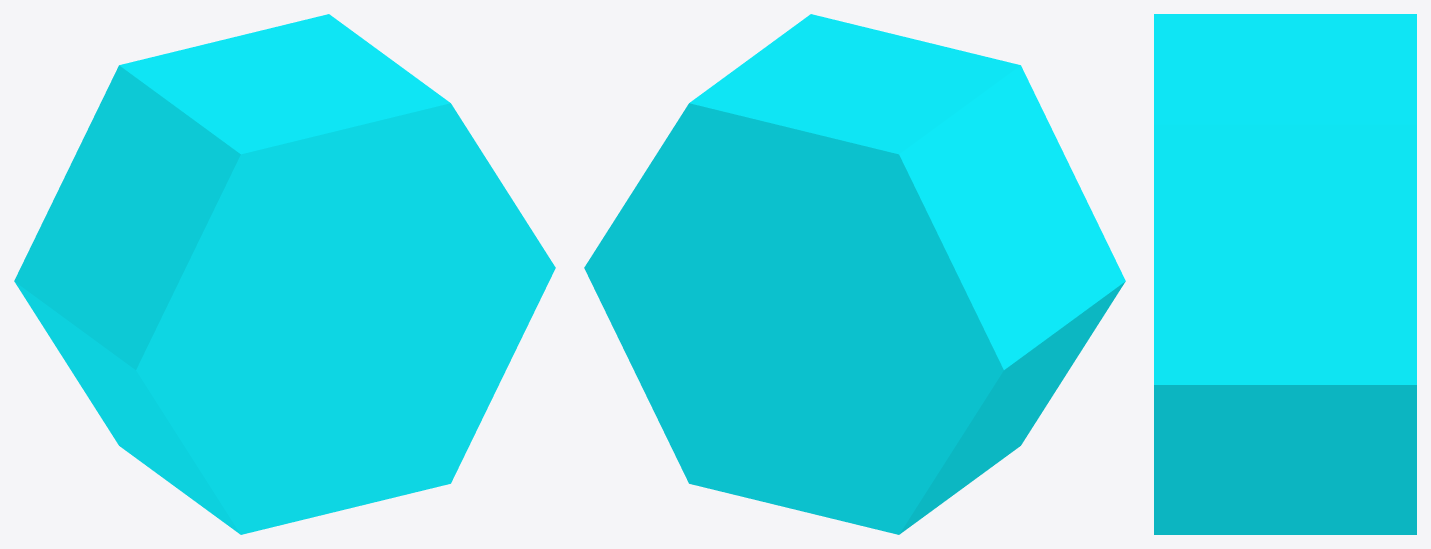
The model's file is SM_Hud_Reticle_06.glb.
3 views of the same model, side by side, from view 1: azimuth 30°, elevation 25°; view 2: azimuth 150°, elevation 25°; view 3: azimuth 270°, elevation 25° (orthographic). The views are drawn at different scales.
Visible parts, largest first — view 1: SM_Hud_Reticle_06; view 2: SM_Hud_Reticle_06; view 3: SM_Hud_Reticle_06.
Boxes of the visible parts, x1=… form: SM_Hud_Reticle_06: x1=14, y1=14, x2=555, y2=534; SM_Hud_Reticle_06: x1=584, y1=14, x2=1125, y2=534; SM_Hud_Reticle_06: x1=1154, y1=14, x2=1416, y2=534.
Bounding box in the file's own units: 0.0246 × 0.0213 × 0.0124.
